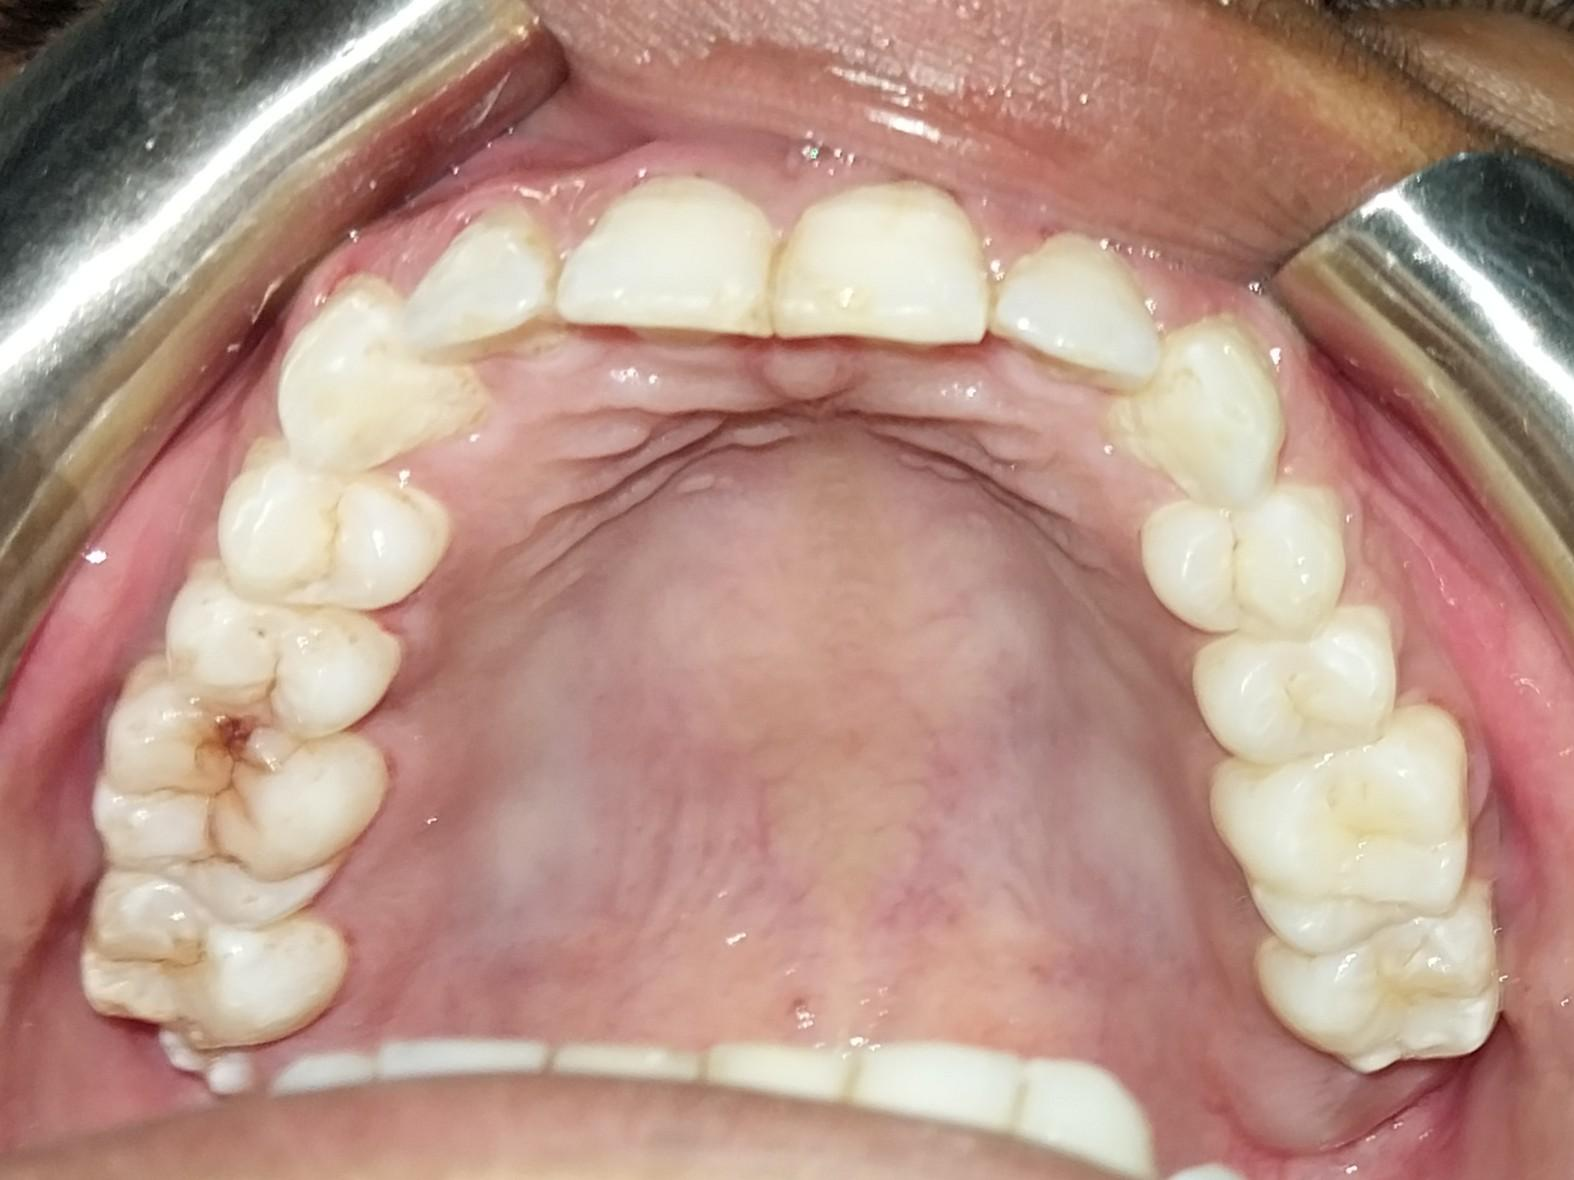D: (88, 668, 380, 928)
